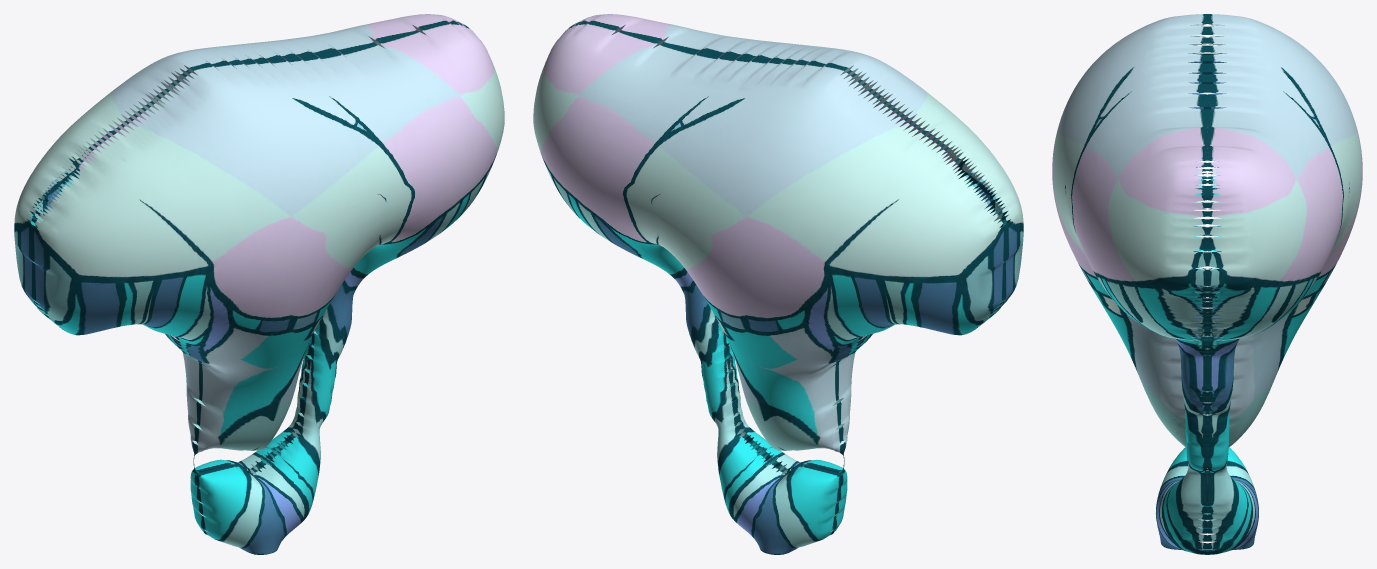
Rendered from west_ice_shelf.glb.
The picture shows the model from 3 angles, left to right: view 1: azimuth 30°, elevation 25°; view 2: azimuth 150°, elevation 25°; view 3: azimuth 270°, elevation 25°; orthographic projection. The views are drawn at different scales.
Parts seen in each view (by area): view 1: west_ice_shelf; view 2: west_ice_shelf; view 3: west_ice_shelf.
Boxes of the visible parts, bbox=[...] form: west_ice_shelf: bbox=[14, 14, 504, 554]; west_ice_shelf: bbox=[533, 14, 1023, 554]; west_ice_shelf: bbox=[1052, 14, 1362, 554].
Bounding box in the file's own units: 0.9889 × 0.9943 × 0.5591.
1 material, 1 textured.
